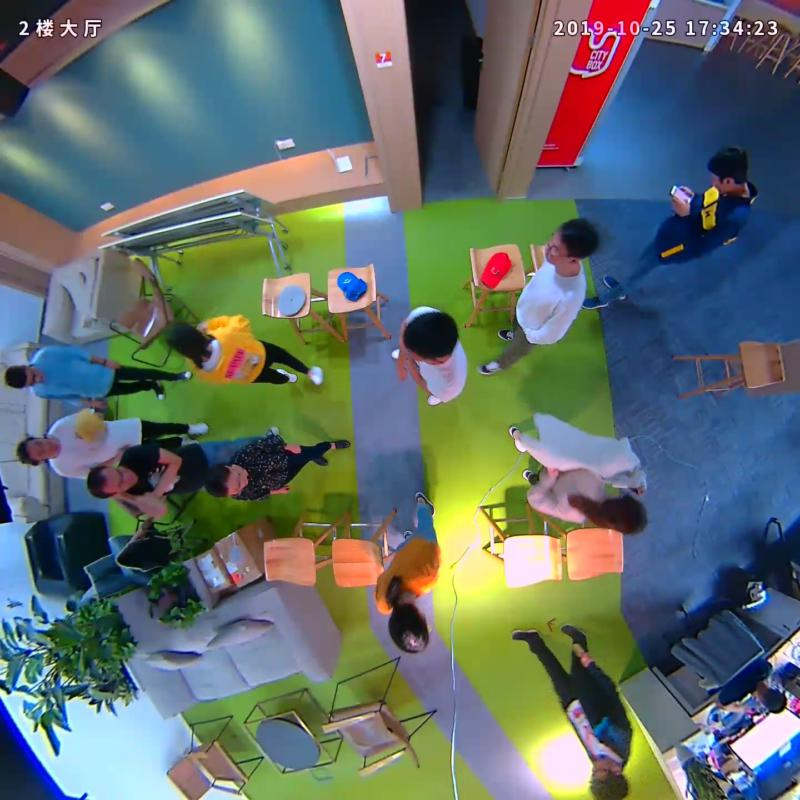head: (403, 311, 458, 362), (544, 217, 597, 267), (387, 604, 429, 654), (601, 493, 647, 535), (707, 145, 748, 192), (589, 755, 630, 800), (163, 320, 207, 360), (86, 464, 137, 498), (203, 465, 248, 497), (17, 436, 56, 467), (5, 364, 44, 389)
